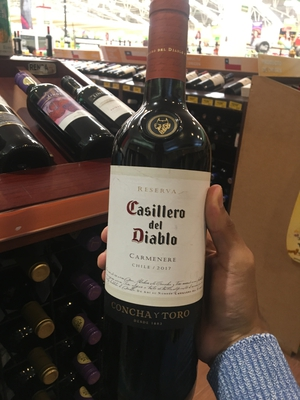casillero del diablo carmenere: (96, 19, 225, 392)
